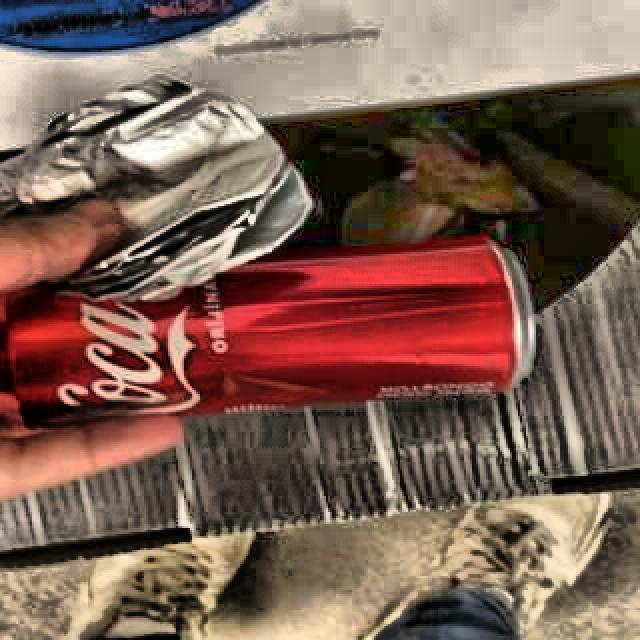metal: (0, 242, 536, 427)
